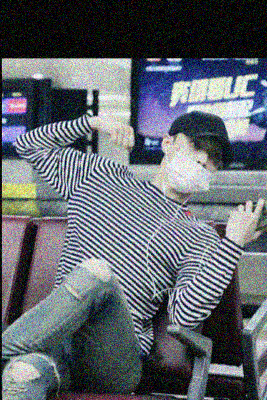mask_weared_incorrect: (168, 135, 221, 191)
